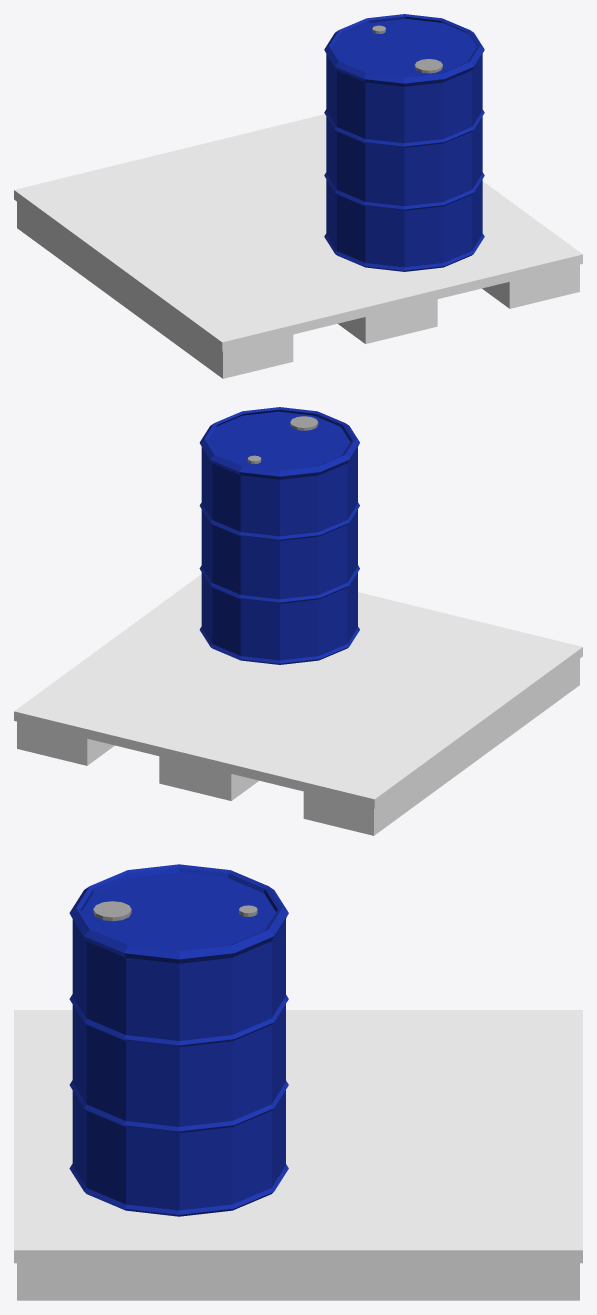
Rendered from DrumOnPlastic1_3.fbx.
The picture shows the model from 3 angles, top to bottom: view 1: azimuth 30°, elevation 25°; view 2: azimuth 150°, elevation 25°; view 3: azimuth 270°, elevation 25°; orthographic projection. The views are drawn at different scales.
Visible parts, largest first — view 1: Cube; view 2: Cube; view 3: Cube.
Part boxes in pixels (x1,y1,x2,y2): Cube: [14, 14, 582, 378]; Cube: [14, 407, 582, 835]; Cube: [14, 864, 582, 1300].
Bounding box in the file's own units: 200 × 122 × 200.
